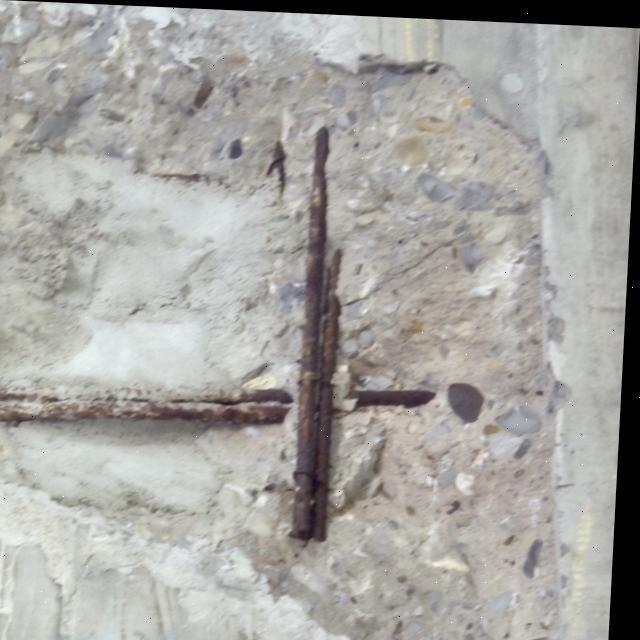D0w0: (2, 46, 557, 601)
